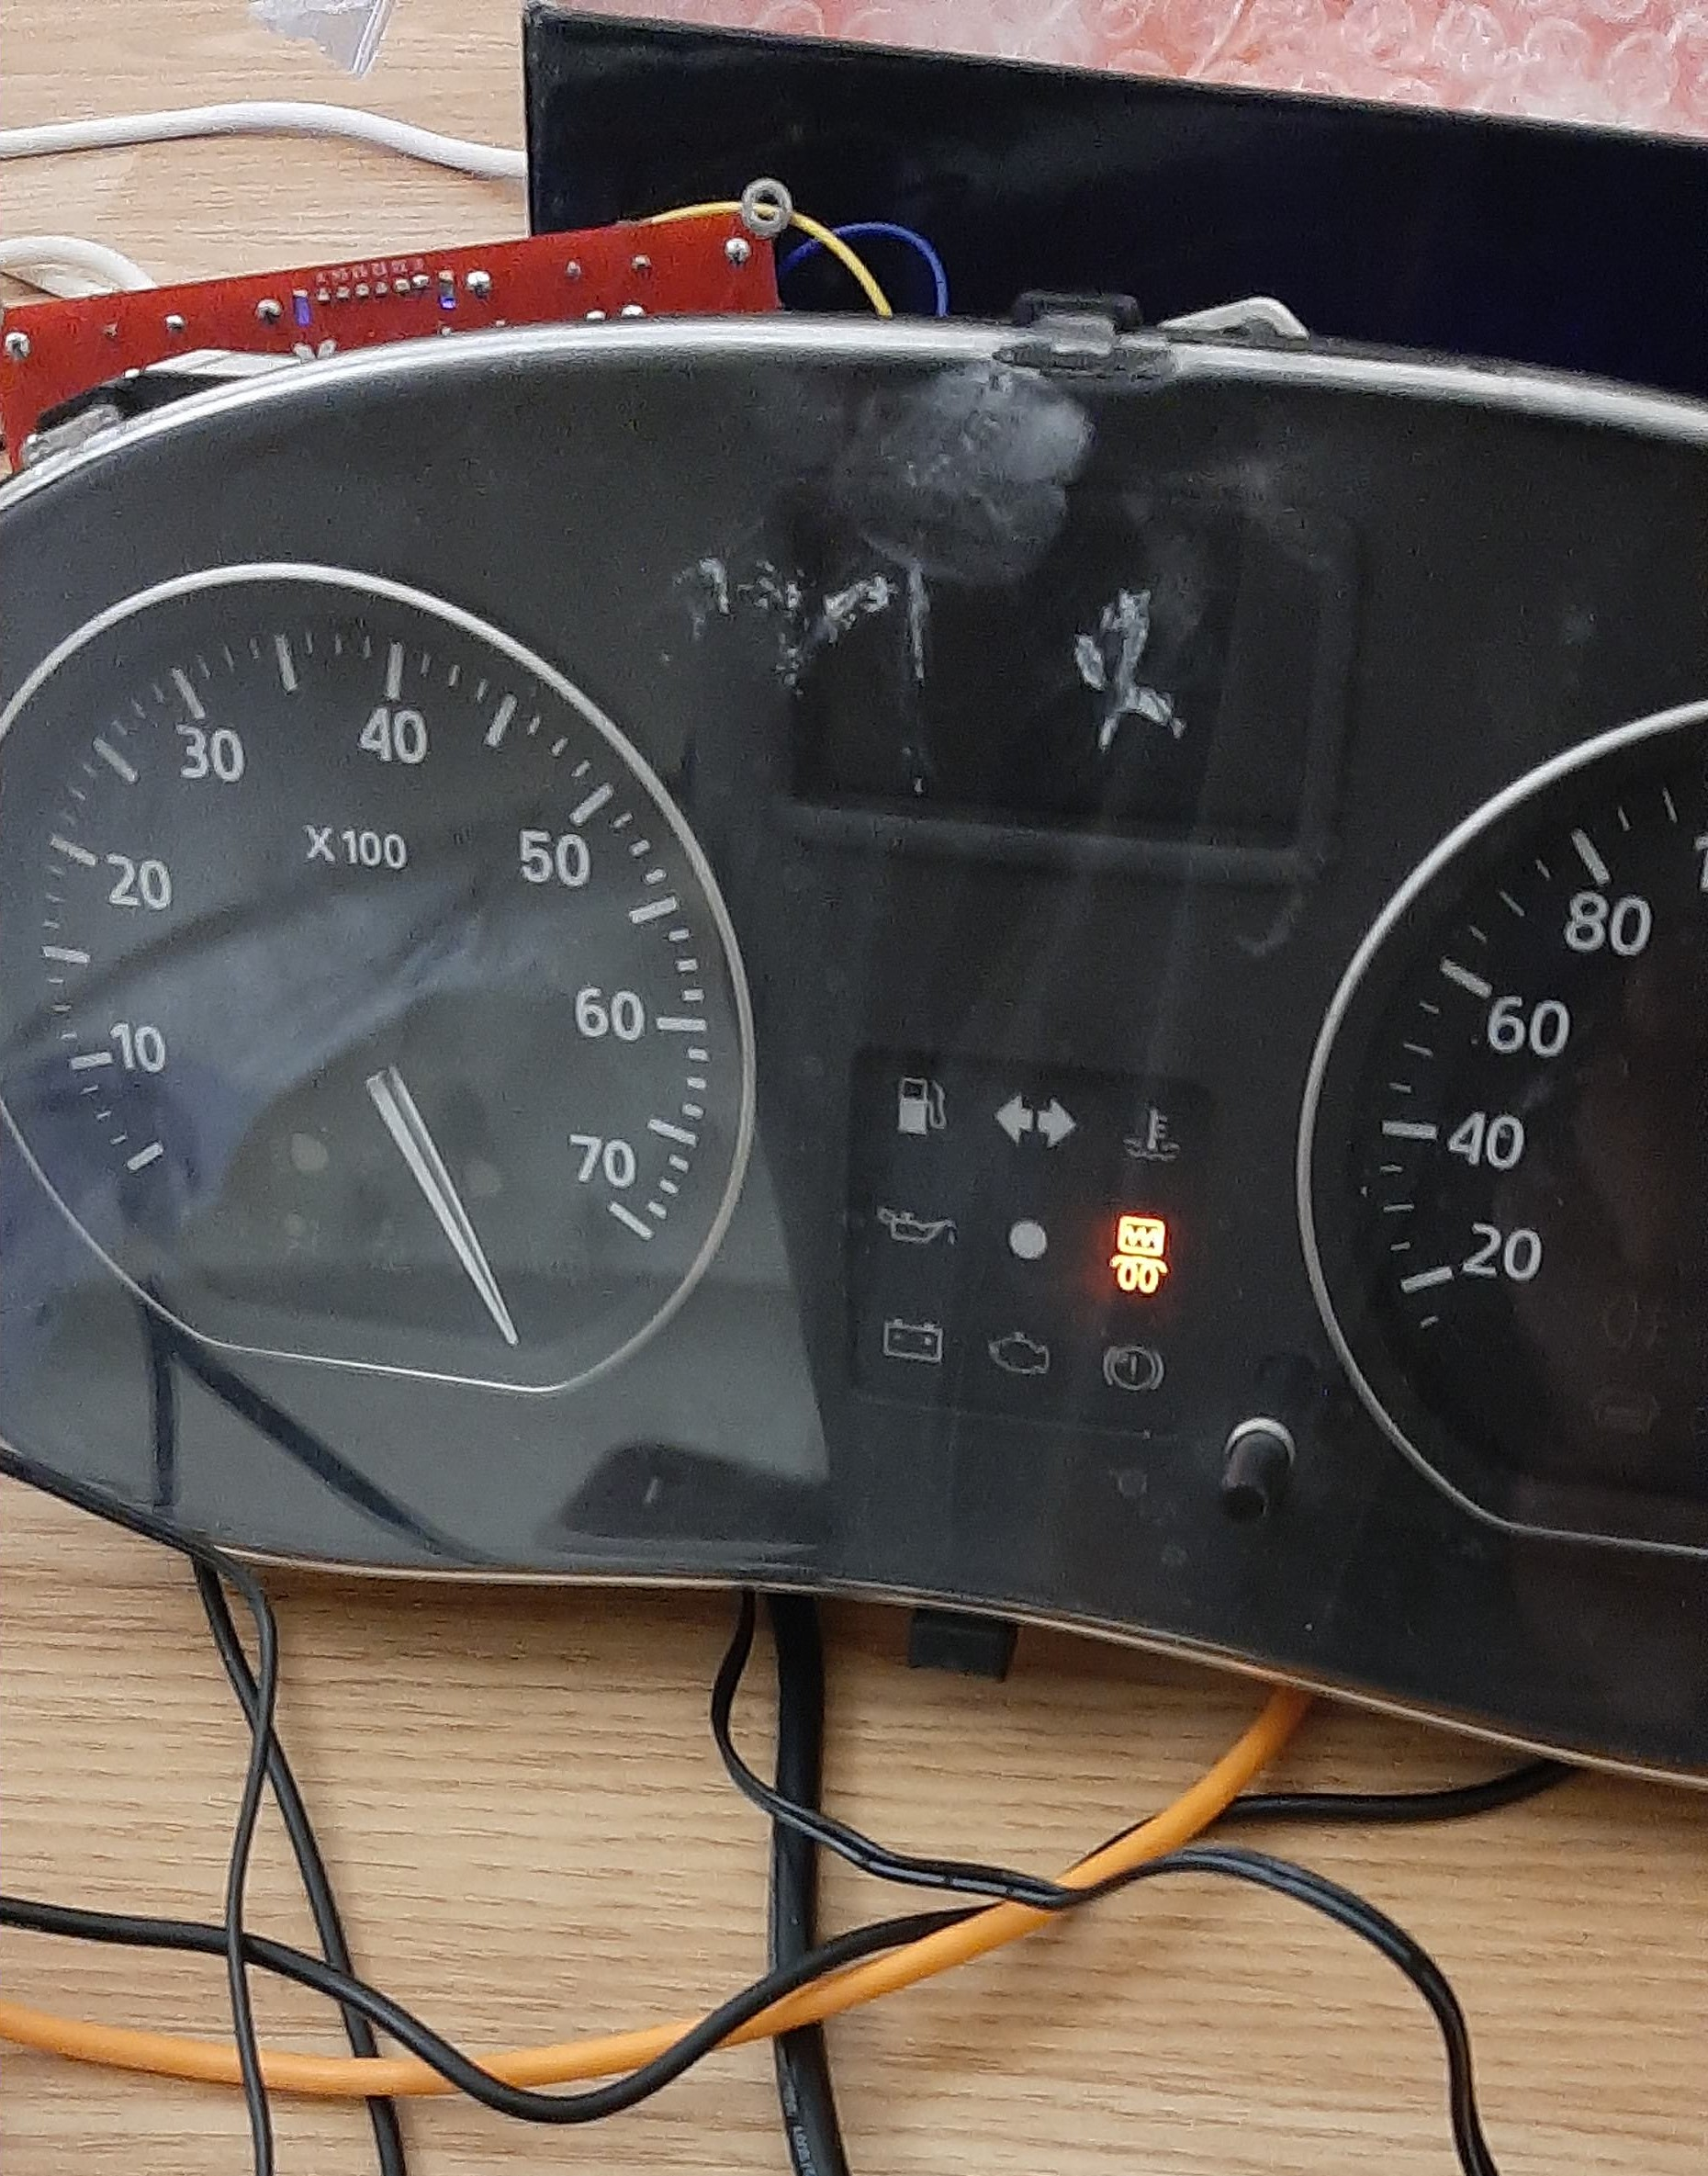diesel22: (1109, 1210, 1168, 1296)
